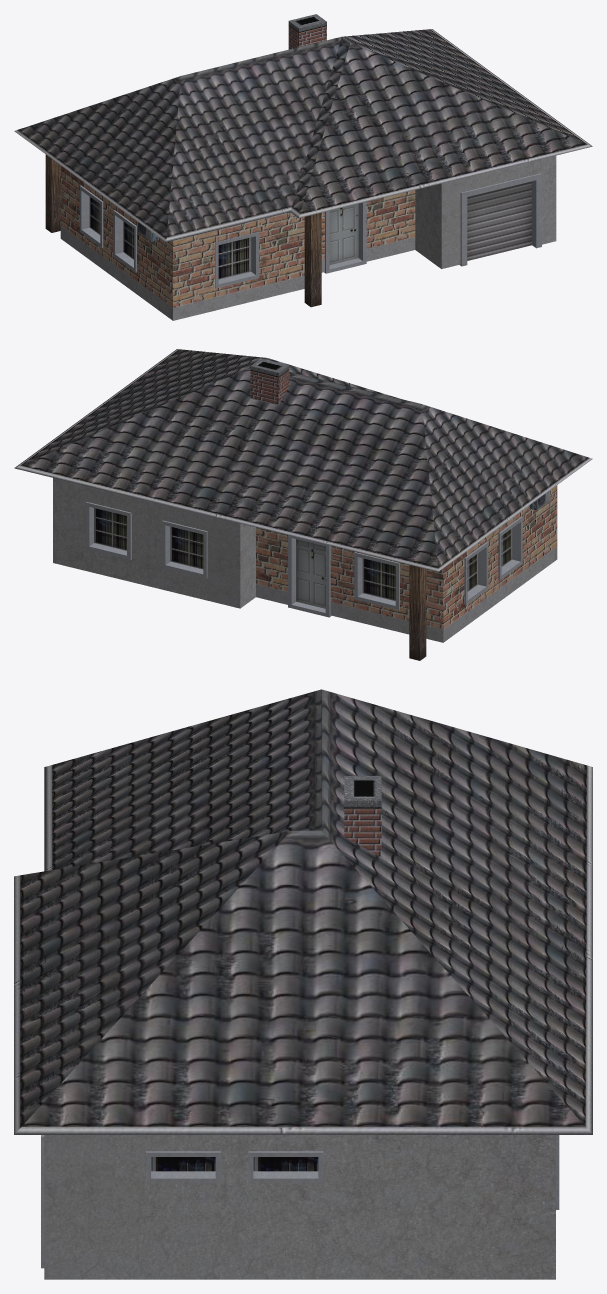
Rendered from family-houses.glb.
The picture shows the model from 3 angles, top to bottom: view 1: azimuth 30°, elevation 25°; view 2: azimuth 150°, elevation 25°; view 3: azimuth 270°, elevation 25°; orthographic projection. The views are drawn at different scales.
Visible parts, largest first — view 1: family-house-1-brick; view 2: family-house-1-brick; view 3: family-house-1-brick.
Part boxes in pixels (x1,y1,x2,y2): family-house-1-brick: (14, 14, 592, 320); family-house-1-brick: (14, 349, 592, 660); family-house-1-brick: (14, 689, 592, 1279).
Size of the model in its own units: 4.11 by 1.87 by 2.73.
Materials: 1 (1 with a texture image).
